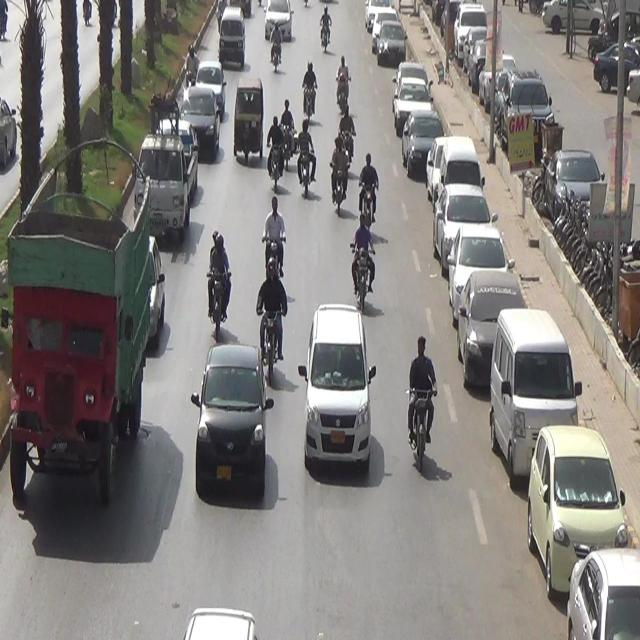car: (193, 338, 268, 519), (305, 296, 378, 480), (169, 71, 224, 160), (214, 5, 248, 78)
motorbike: (403, 322, 444, 488), (200, 217, 232, 356), (258, 255, 286, 394), (351, 149, 384, 234), (257, 194, 288, 279), (296, 52, 324, 142), (297, 123, 324, 213), (353, 212, 376, 310), (326, 133, 348, 229), (262, 111, 285, 189), (270, 26, 292, 94), (279, 95, 298, 172), (311, 0, 339, 50), (336, 59, 353, 125)
truck: (10, 172, 159, 515), (130, 92, 197, 251)
